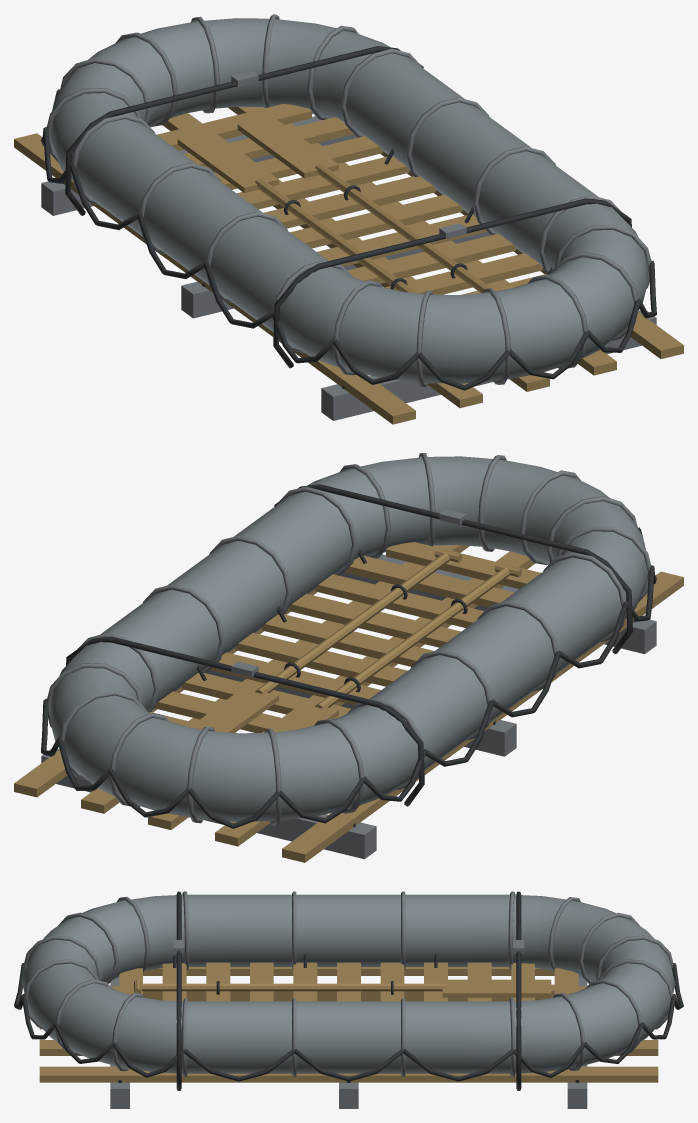
3 renders of one model, top to bottom at view 1: azimuth 30°, elevation 25°; view 2: azimuth 150°, elevation 25°; view 3: azimuth 270°, elevation 25°, orthographic. The views are drawn at different scales.
Visible parts, largest first — view 1: component.root.mesh; view 2: component.root.mesh; view 3: component.root.mesh.
Boxes of the visible parts, x1,y1,x2,y2 form: component.root.mesh: [14, 14, 683, 424]; component.root.mesh: [14, 453, 683, 862]; component.root.mesh: [14, 891, 683, 1108].
Bounding box in the file's own units: 1.61 × 0.5075 × 3.08.
